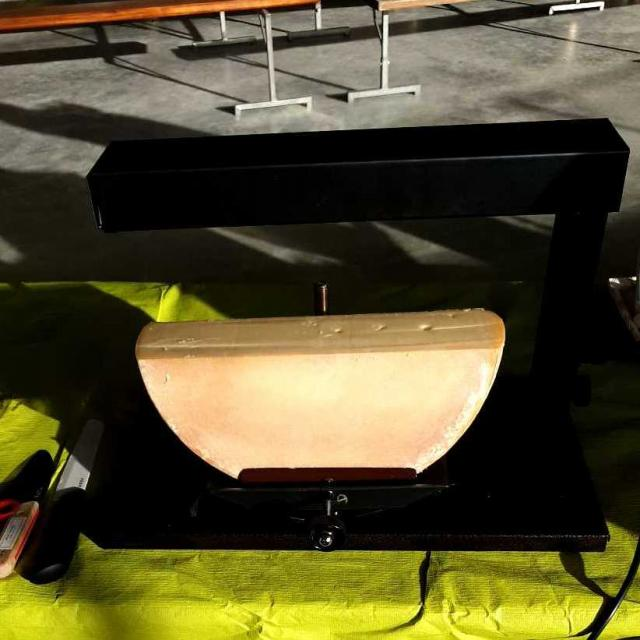cheese-for-raclette: (122, 306, 518, 485)
